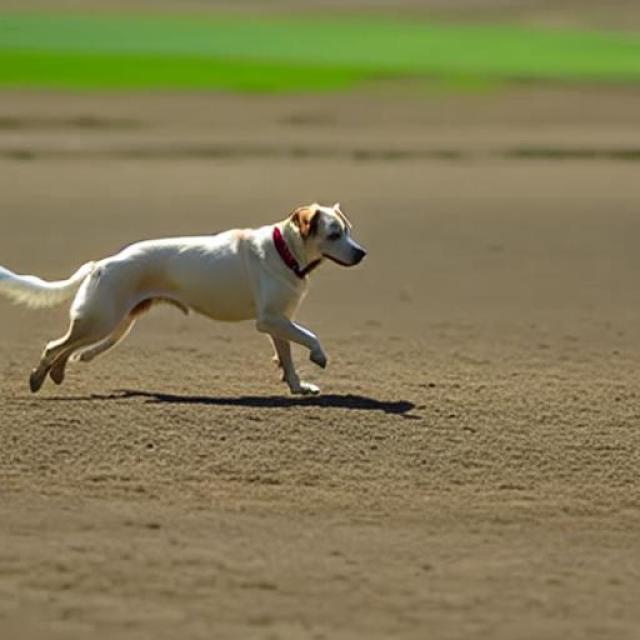Dog: (0, 201, 369, 395)
